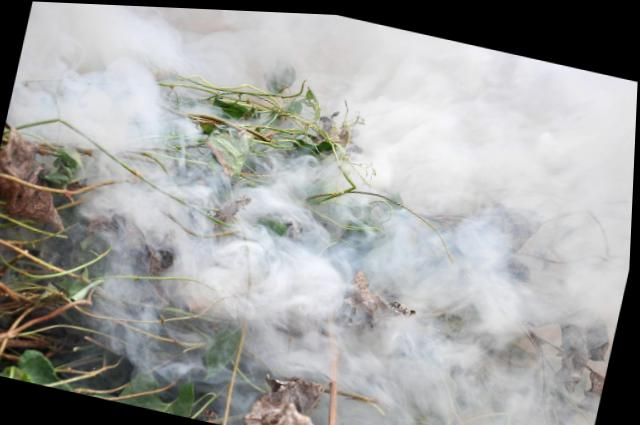smoke: (376, 31, 525, 187), (539, 66, 637, 197), (45, 2, 172, 74), (182, 6, 280, 66), (267, 248, 343, 308), (460, 227, 512, 291), (84, 85, 138, 134), (575, 253, 625, 297)
